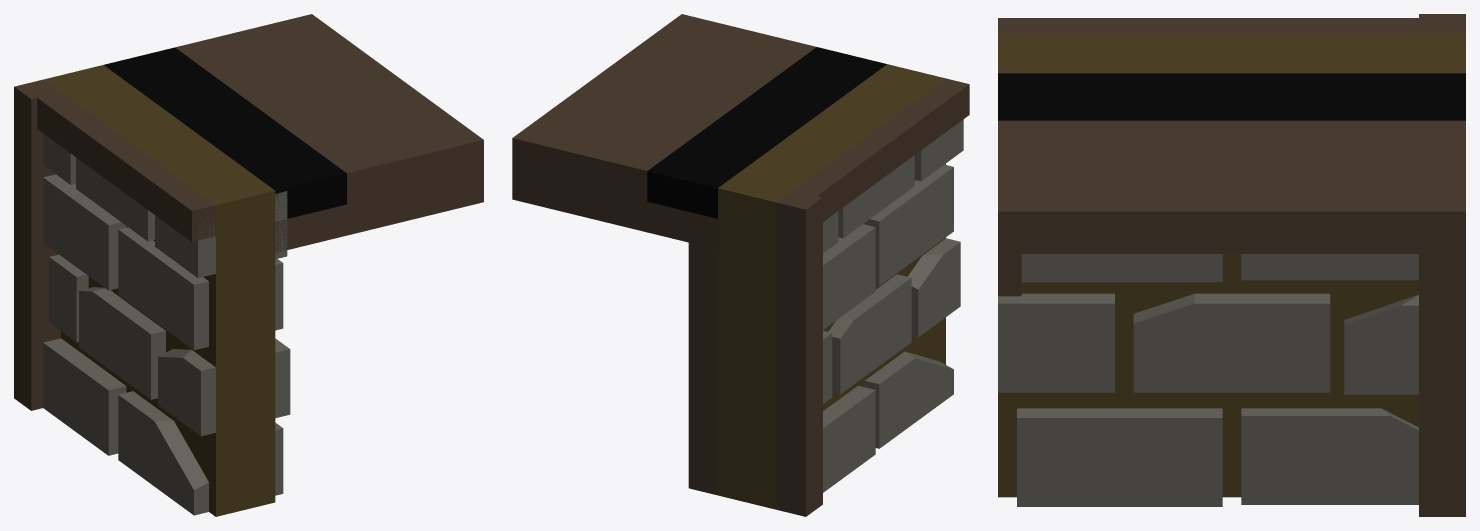
Rendered from A_BrickWallFloor11.fbx.
3 renders of one model, left to right at view 1: azimuth 30°, elevation 25°; view 2: azimuth 150°, elevation 25°; view 3: azimuth 270°, elevation 25°, orthographic. The views are drawn at different scales.
Visible parts, largest first — view 1: A_BrickWallFloor11; view 2: A_BrickWallFloor11; view 3: A_BrickWallFloor11.
Part boxes in pixels (x1,y1,x2,y2): A_BrickWallFloor11: (14,14,483,516); A_BrickWallFloor11: (512,14,969,516); A_BrickWallFloor11: (998,14,1465,516).
Bounding box in the file's own units: 100 × 100 × 100.
